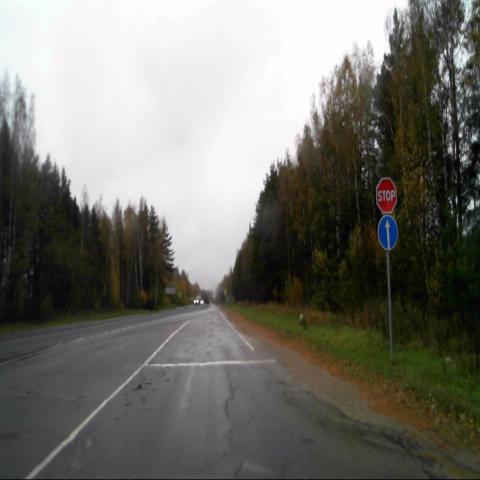2_5: (376, 176, 396, 215)
